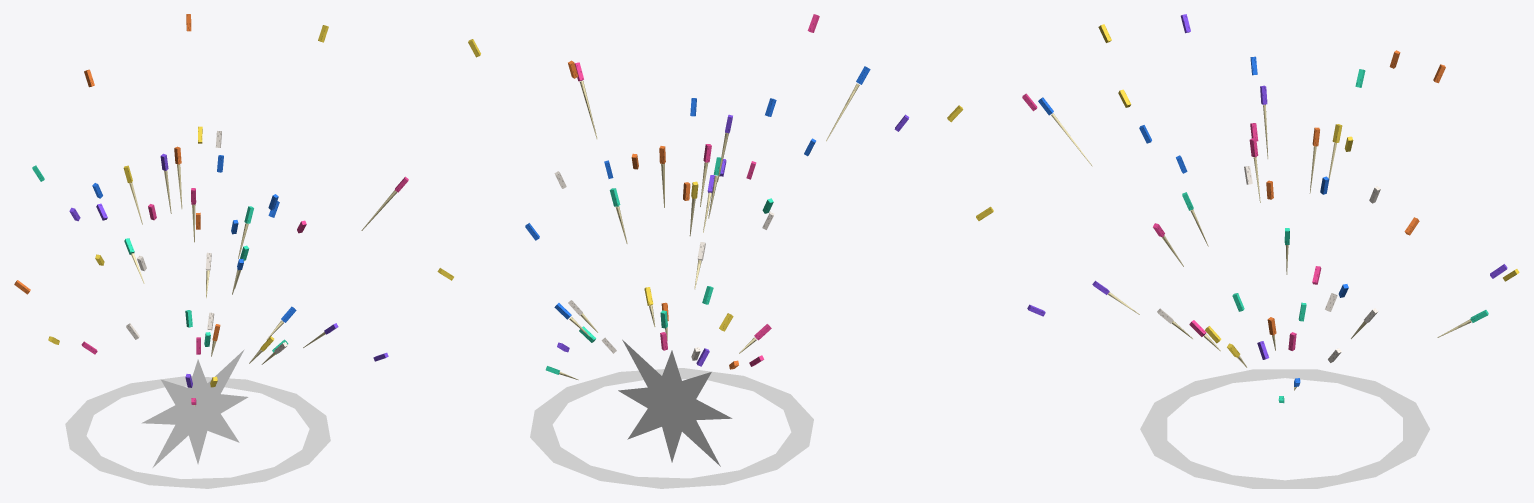
The model's file is Sprinkle Shrapnel Spray.fbx.
The picture shows the model from 3 angles, left to right: view 1: azimuth 30°, elevation 25°; view 2: azimuth 150°, elevation 25°; view 3: azimuth 270°, elevation 25°; orthographic projection. The views are drawn at different scales.
Parts seen in each view (by area): view 1: Sprinkle Shrapnel Spray ring, Sprinkle Shrapnel Spray flash, Sprinkle Shrapnel Spray flash core; view 2: Sprinkle Shrapnel Spray ring, Sprinkle Shrapnel Spray flash; view 3: Sprinkle Shrapnel Spray ring.
Boxes of the visible parts, left/top/right/bottom form: Sprinkle Shrapnel Spray ring: left=65, top=376, right=330, bottom=488; Sprinkle Shrapnel Spray flash: left=141, top=349, right=248, bottom=467; Sprinkle Shrapnel Spray flash core: left=173, top=385, right=224, bottom=436; Sprinkle Shrapnel Spray ring: left=530, top=368, right=813, bottom=488; Sprinkle Shrapnel Spray flash: left=618, top=339, right=732, bottom=466; Sprinkle Shrapnel Spray ring: left=1140, top=369, right=1429, bottom=488.
Size of the model in its own units: 1.19 by 1.19 by 1.23.
Materials: 11 (8 with a texture image).
